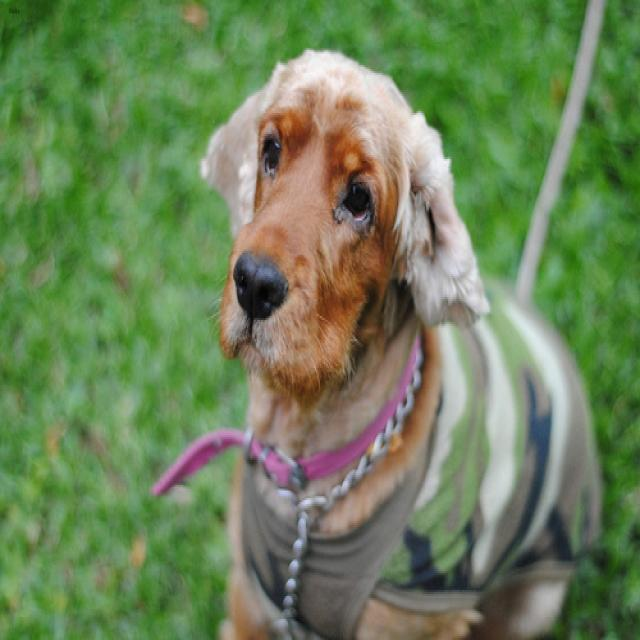dog-english_cocker_spaniel: (184, 36, 492, 636)
